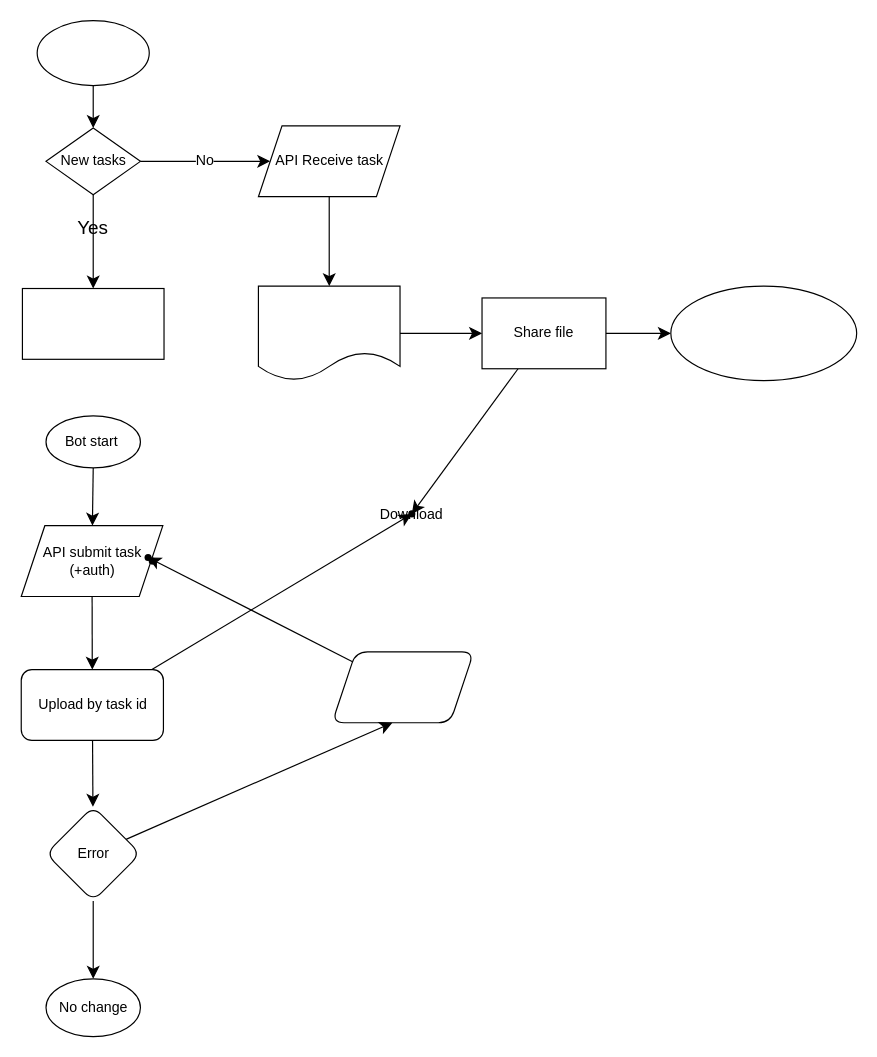
Image size: 877x1057. Some labels were removed from this diagram. Here are the shapes that lost their labels. From the top down, the box of each, then its label:
(36, 19, 149, 86): Backend Start
(21, 287, 164, 359): Complete task
(257, 285, 400, 381): Task Id: status
(670, 285, 857, 381): Mark task done
(331, 651, 474, 723): API Authorise (domain)
